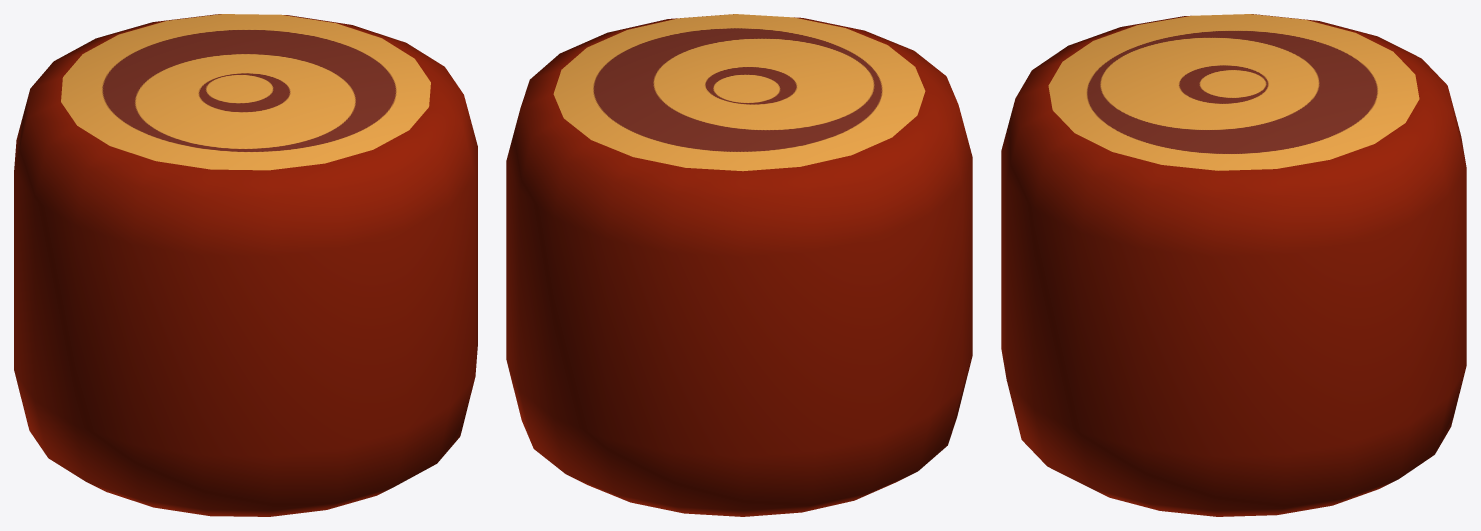
File: LogMini.fbx
3 views of the same model, side by side, from view 1: azimuth 30°, elevation 25°; view 2: azimuth 150°, elevation 25°; view 3: azimuth 270°, elevation 25° (orthographic).
Parts seen in each view (by area): view 1: Logs; view 2: Logs; view 3: Logs.
Part boxes in pixels (x1,y1,x2,y2): Logs: (14, 14, 477, 516); Logs: (506, 14, 972, 516); Logs: (1001, 14, 1466, 516).
Size of the model in its own units: 0.9822 by 0.8225 by 0.9822.
